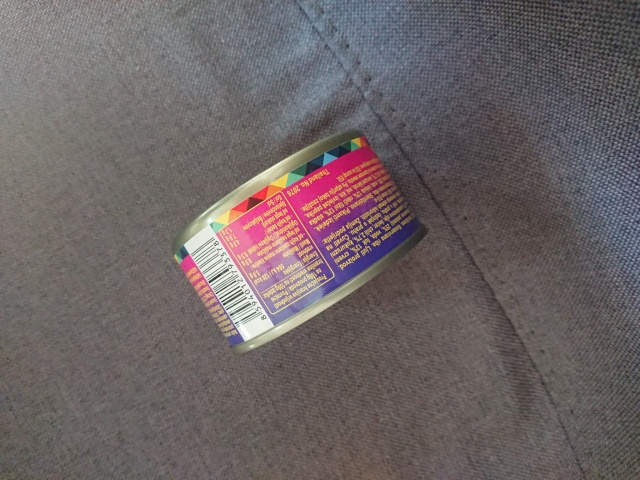Giana Tuna Salad Mexico 185g: (165, 125, 431, 361)
